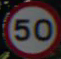Speed limit: (2, 2, 58, 54)
